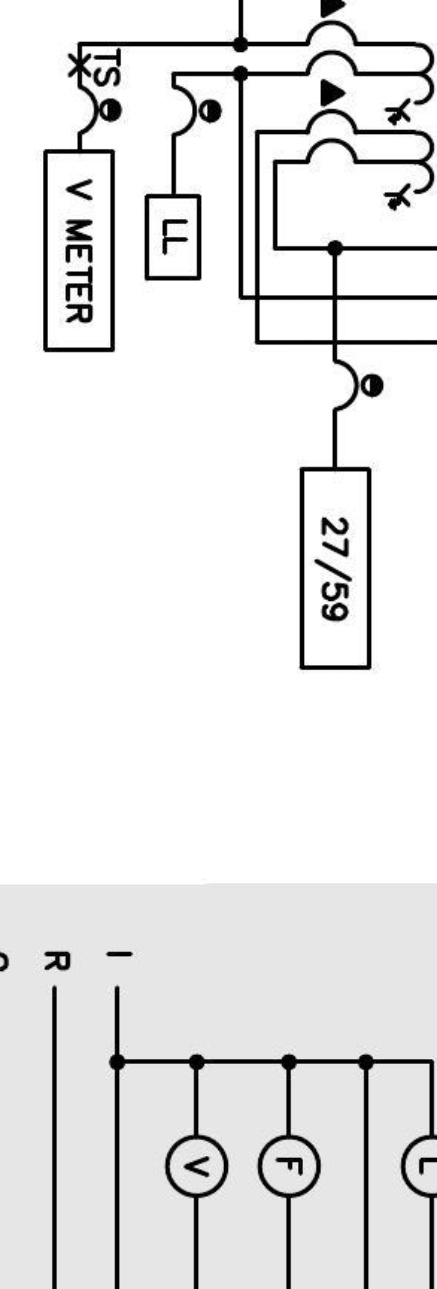LL: (142, 193, 203, 282)
v_m_digital: (42, 147, 116, 353)
